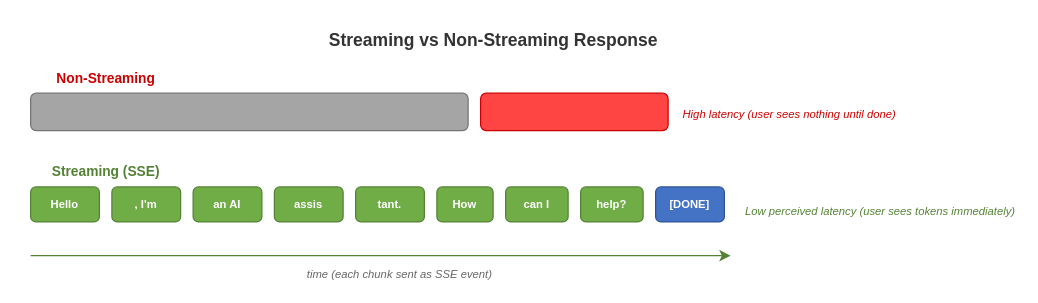
Some shapes in this 1038 by 303 pixel diagram are drawn without their labels. Here are the shapes that lost their labels. From the top down, the centre of each, then its label:
At pixel 248 111: "Client waits...".
At pixel 573 111: "Full response at once".
